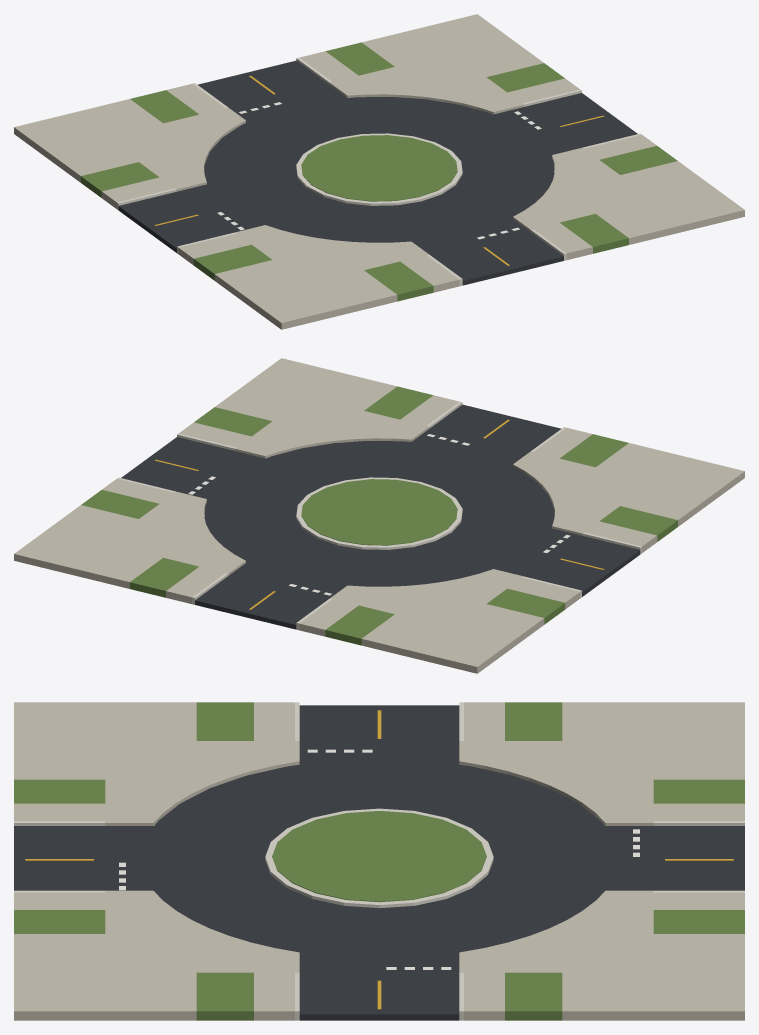
The model's file is Road_2Lane_Sidewalk_Intersection_Roundabout.glb.
3 views of the same model, one above another, from view 1: azimuth 30°, elevation 25°; view 2: azimuth 150°, elevation 25°; view 3: azimuth 270°, elevation 25° (orthographic). The views are drawn at different scales.
Visible parts, largest first — view 1: Road_2Lane_Sidewalk_Intersection_Roundabout_Sidewalk, Road_2Lane_Sidewalk_Intersection_Roundabout_Asphalt, Road_2Lane_Sidewalk_Intersection_Roundabout_Grass-edge, Road_2Lane_Sidewalk_Intersection_Roundabout_Curb; view 2: Road_2Lane_Sidewalk_Intersection_Roundabout_Sidewalk, Road_2Lane_Sidewalk_Intersection_Roundabout_Asphalt, Road_2Lane_Sidewalk_Intersection_Roundabout_Grass-edge, Road_2Lane_Sidewalk_Intersection_Roundabout_Curb; view 3: Road_2Lane_Sidewalk_Intersection_Roundabout_Sidewalk, Road_2Lane_Sidewalk_Intersection_Roundabout_Asphalt, Road_2Lane_Sidewalk_Intersection_Roundabout_Grass-edge, Road_2Lane_Sidewalk_Intersection_Roundabout_Curb, Road_2Lane_Sidewalk_Intersection_Roundabout_PaintWhite, Road_2Lane_Sidewalk_Intersection_Roundabout_PaintYellow.
Boxes of the visible parts, left/top/right/bottom form: Road_2Lane_Sidewalk_Intersection_Roundabout_Sidewalk: left=14, top=14, right=744, bottom=329; Road_2Lane_Sidewalk_Intersection_Roundabout_Asphalt: left=118, top=60, right=637, bottom=285; Road_2Lane_Sidewalk_Intersection_Roundabout_Grass-edge: left=81, top=42, right=677, bottom=301; Road_2Lane_Sidewalk_Intersection_Roundabout_Curb: left=117, top=57, right=641, bottom=286; Road_2Lane_Sidewalk_Intersection_Roundabout_Sidewalk: left=14, top=358, right=744, bottom=673; Road_2Lane_Sidewalk_Intersection_Roundabout_Asphalt: left=121, top=404, right=640, bottom=629; Road_2Lane_Sidewalk_Intersection_Roundabout_Grass-edge: left=81, top=386, right=677, bottom=645; Road_2Lane_Sidewalk_Intersection_Roundabout_Curb: left=117, top=401, right=641, bottom=630; Road_2Lane_Sidewalk_Intersection_Roundabout_Sidewalk: left=14, top=702, right=744, bottom=1020; Road_2Lane_Sidewalk_Intersection_Roundabout_Asphalt: left=14, top=705, right=744, bottom=1020; Road_2Lane_Sidewalk_Intersection_Roundabout_Grass-edge: left=14, top=702, right=744, bottom=1020; Road_2Lane_Sidewalk_Intersection_Roundabout_Curb: left=14, top=702, right=744, bottom=1020; Road_2Lane_Sidewalk_Intersection_Roundabout_PaintWhite: left=119, top=749, right=639, bottom=969; Road_2Lane_Sidewalk_Intersection_Roundabout_PaintYellow: left=25, top=710, right=733, bottom=1009.
Size of the model in its own units: 32 by 0.48 by 32.
